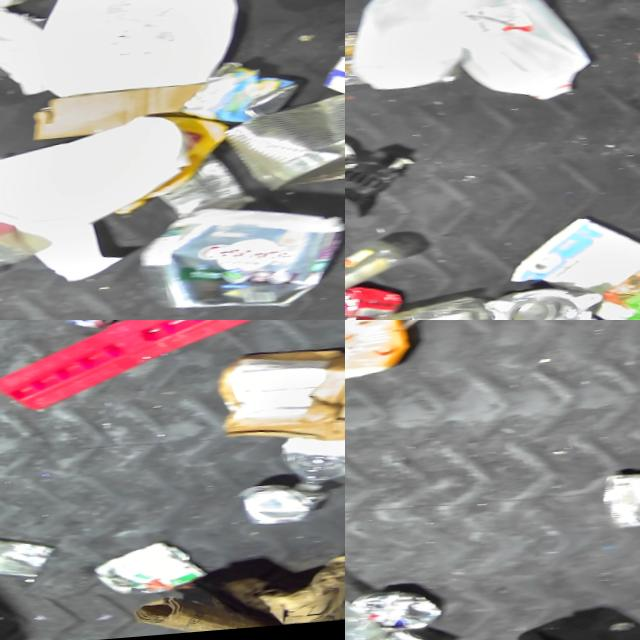can: (226, 98, 345, 200), (91, 542, 213, 597), (495, 291, 588, 320), (602, 471, 640, 533), (353, 622, 451, 640), (44, 320, 123, 335)
milk_jug: (32, 0, 245, 101), (452, 0, 596, 114), (348, 0, 463, 99)
non_white_jug: (345, 320, 416, 381)
plastic_bottle: (287, 347, 345, 498), (345, 240, 411, 320)
